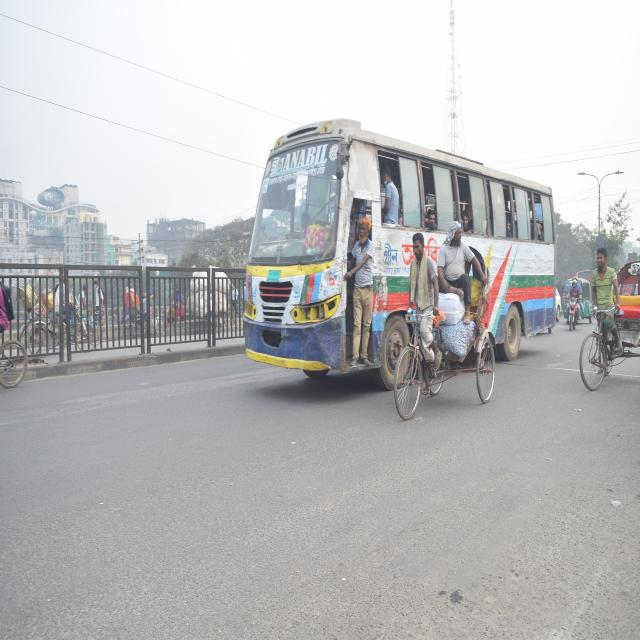bus: (242, 120, 561, 388)
motorbike: (560, 276, 582, 336)
